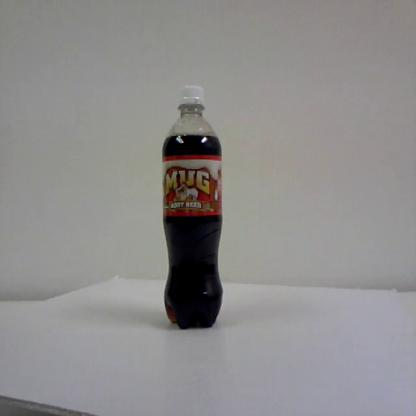bottle: (162, 82, 225, 333)
